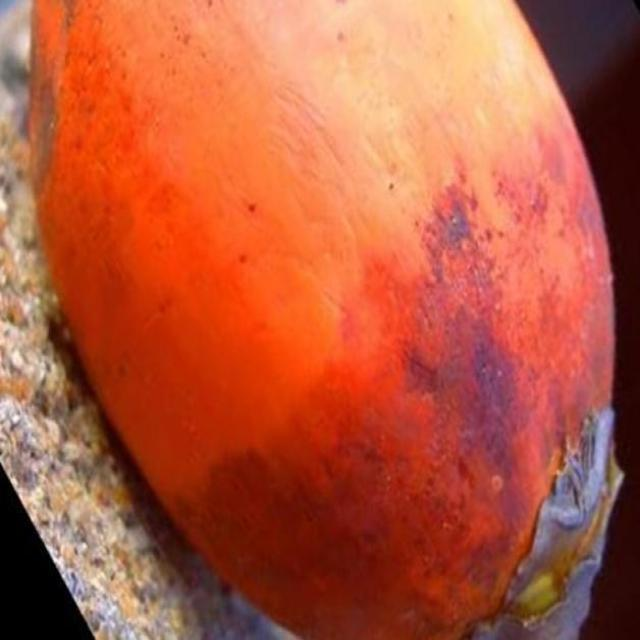good: (20, 0, 626, 639)
